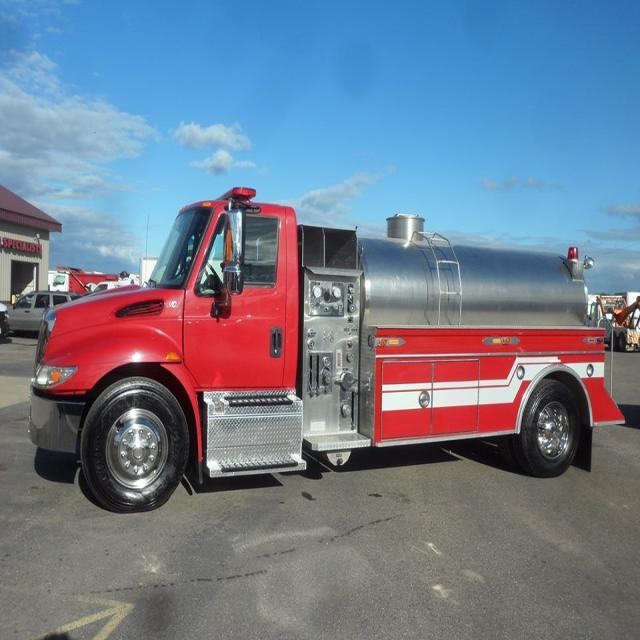pompier: (38, 180, 624, 509)
